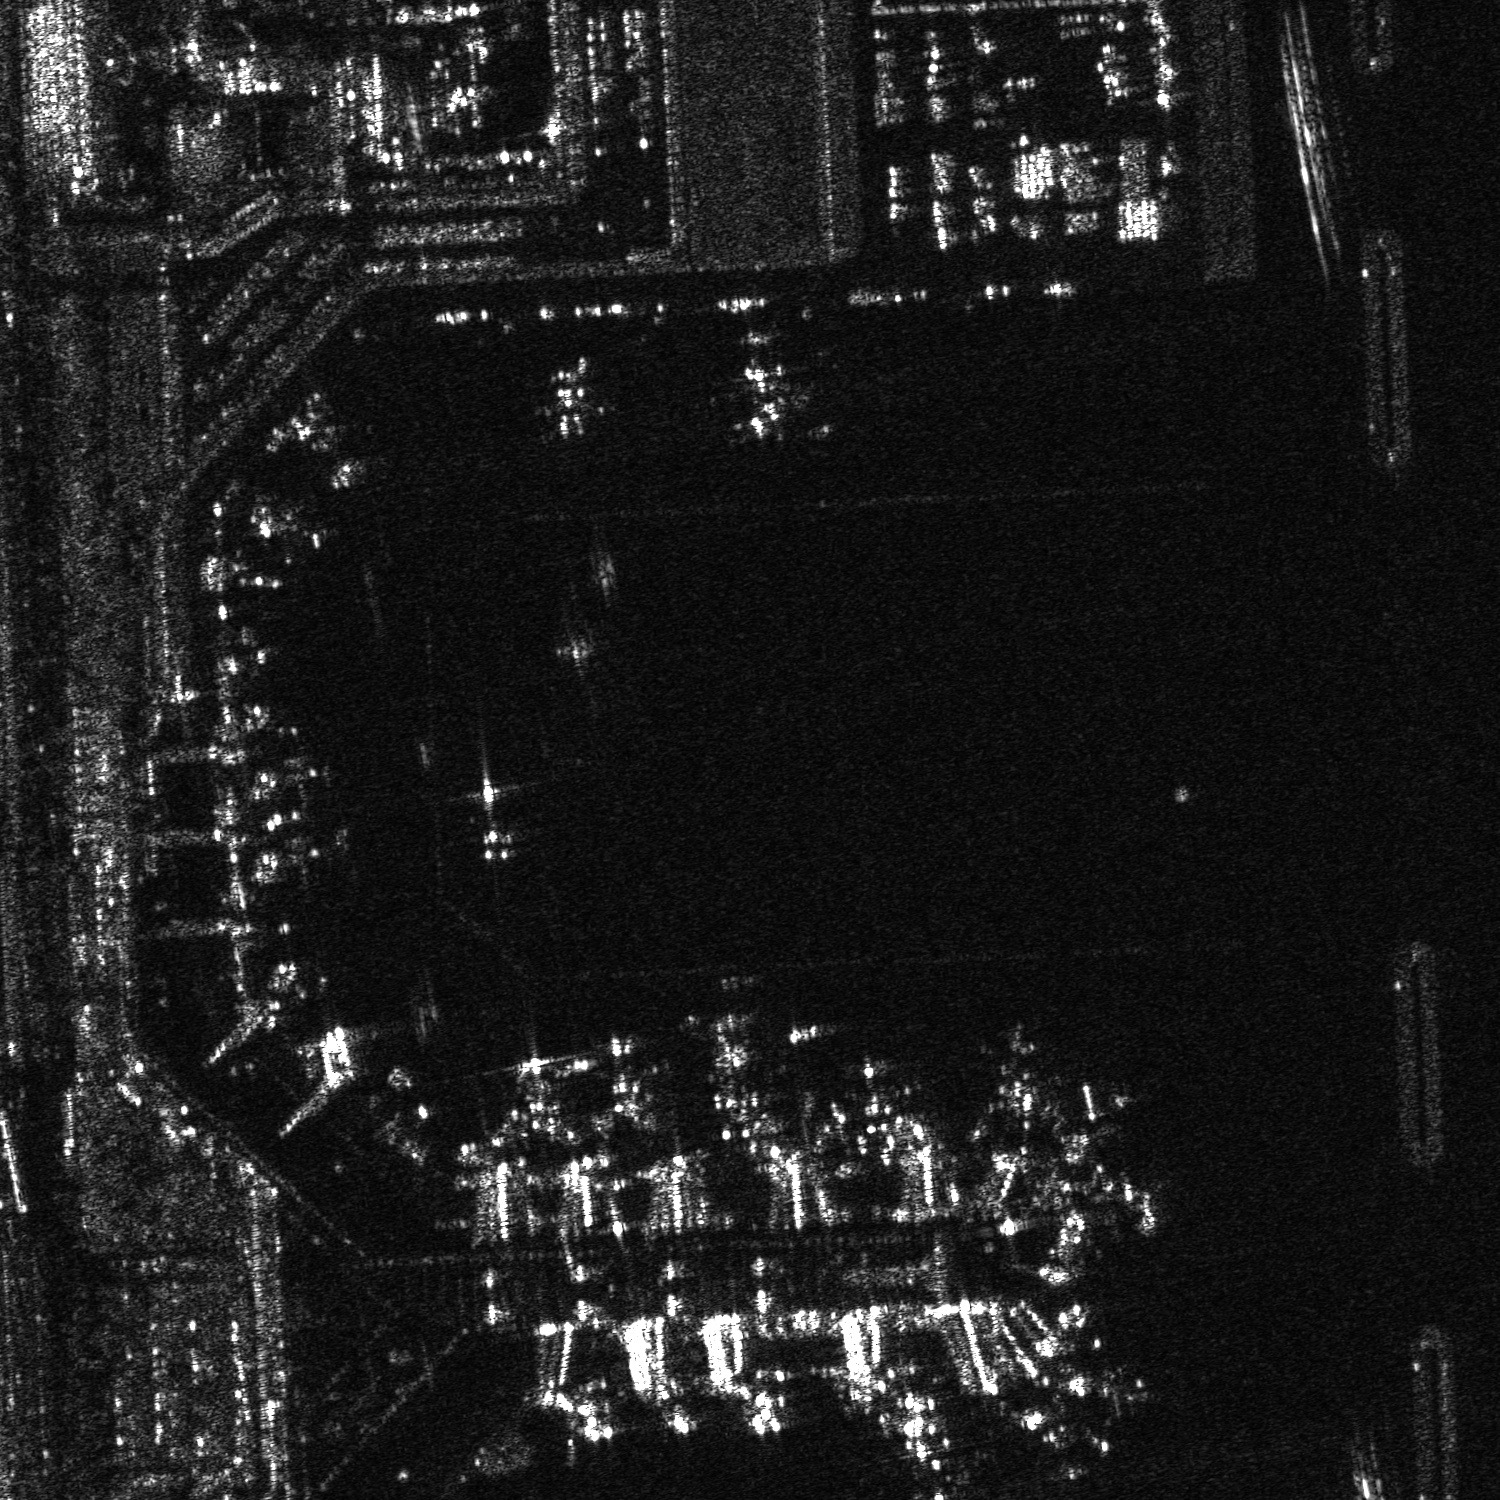A220: (293, 413, 385, 495), (243, 495, 341, 570), (260, 823, 363, 893), (504, 1045, 576, 1146), (254, 735, 343, 815)
A320/321: (705, 1010, 780, 1125), (879, 1416, 973, 1499), (981, 1019, 1049, 1126), (1059, 1361, 1152, 1422), (845, 1054, 908, 1140)
Boeing737: (529, 359, 620, 442), (1012, 1401, 1126, 1464), (466, 775, 534, 867)
other: (720, 357, 815, 446), (595, 1032, 658, 1133)
